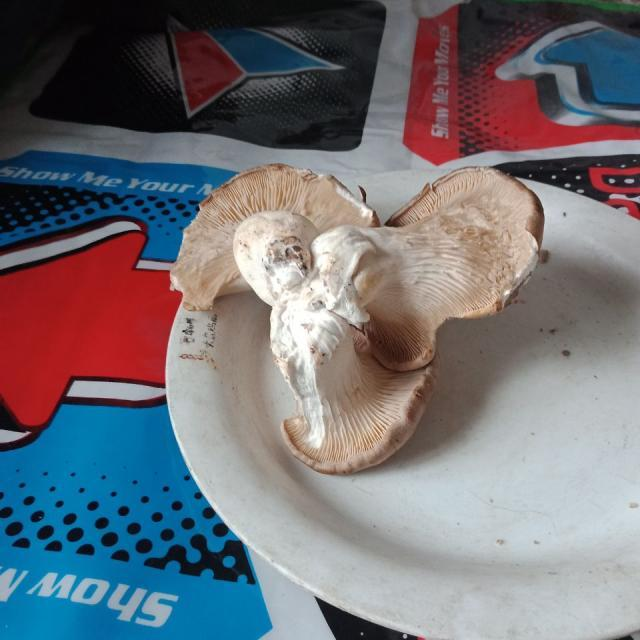Pleurotus cystidiosus: (171, 164, 546, 474)
